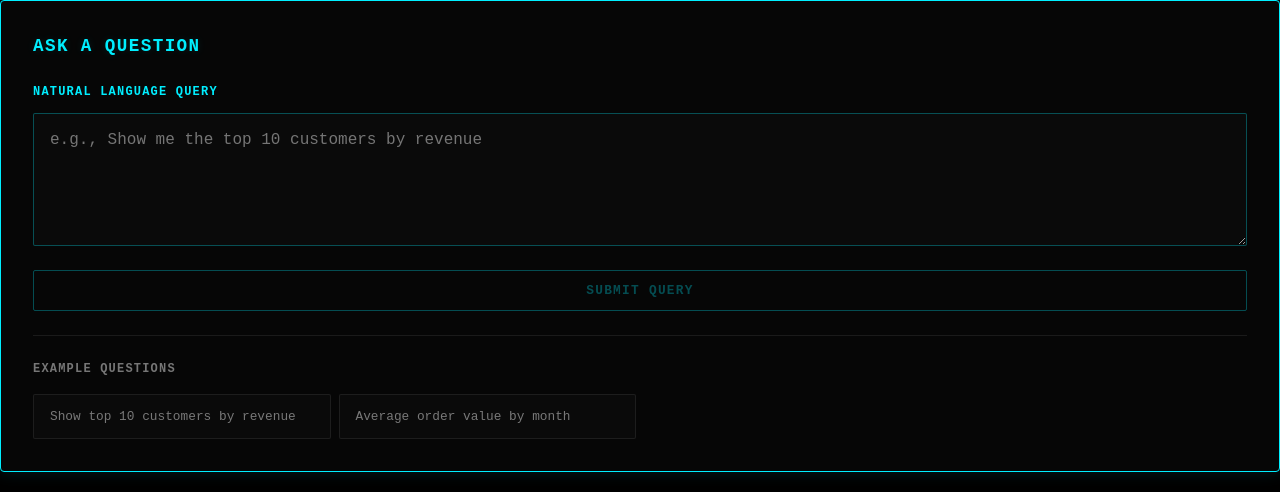
Test: QueryInput Component › Example Questions › should populate textarea when example is clicked
Click the button "Show top 10 customers by revenue": x=182, y=416 [33,394,330,439]
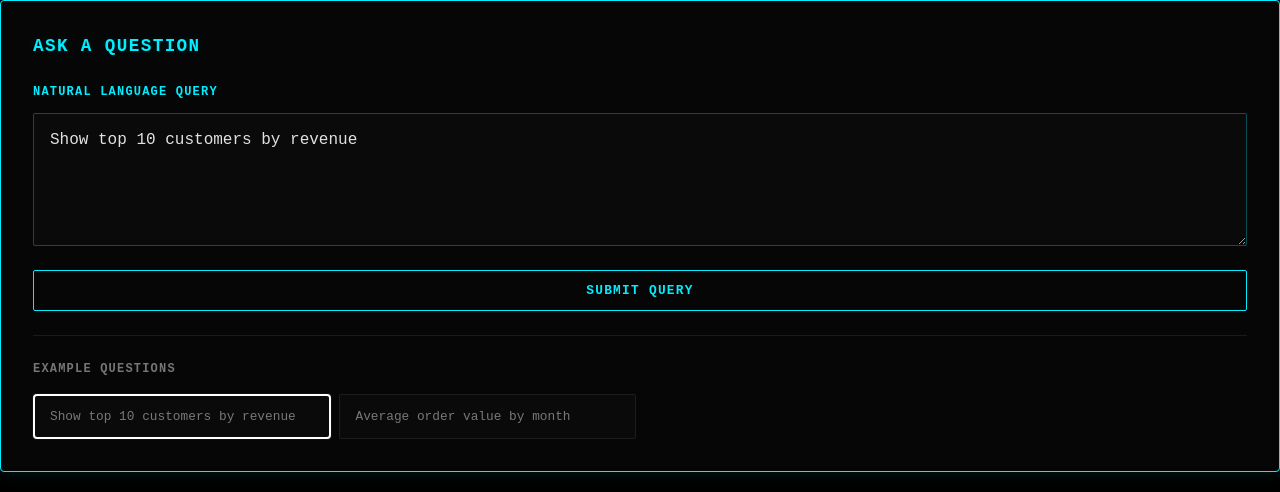
Check: the text box labelled "Natural Language Query" holds "Show top 10 customers by revenue", box [33,113,1247,246]
